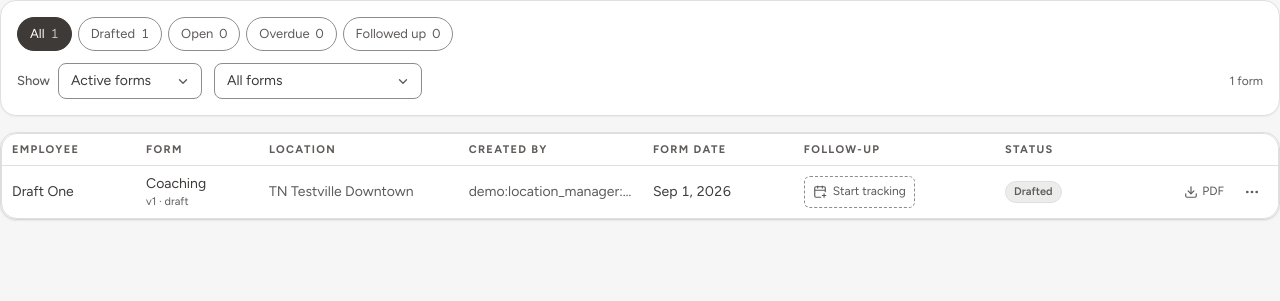
the row menu "…" opens with something in it › for bubbles in form i cant click the ... wanted to delete some form: an admin gets Delete on a draft
The width and height of the screenshot is (1280, 301).
Click the button named "More actions for Draft One" at (1252, 192), box [1236, 176, 1268, 208]
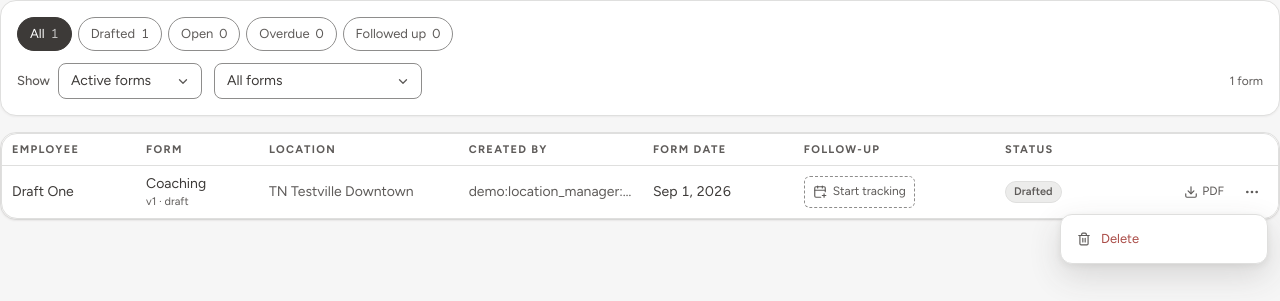
Expected: the menu item "Delete" is shown, [1077, 231, 1139, 246]
